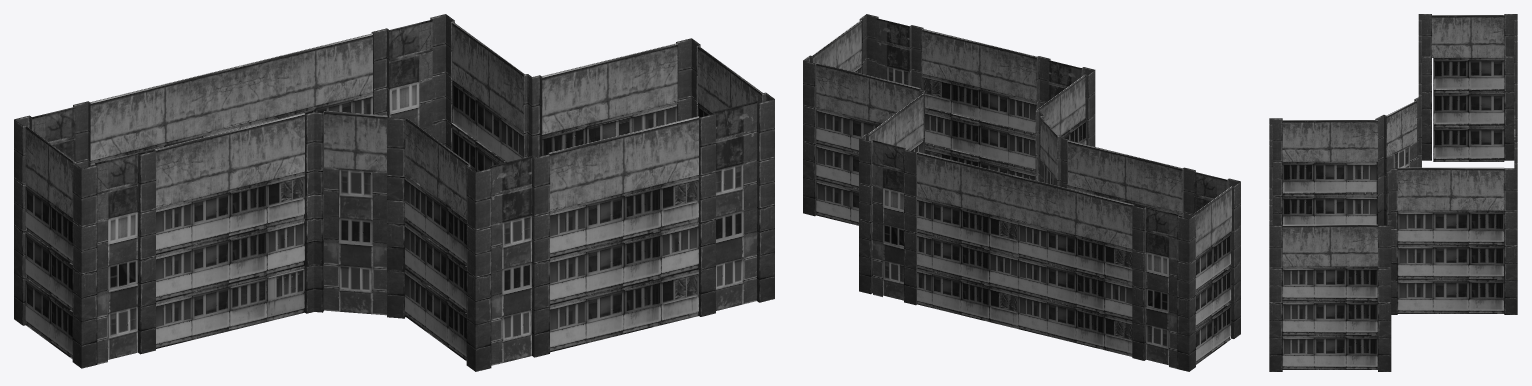
File: skidrow_building_11.fbx
3 renders of one model, left to right at view 1: azimuth 30°, elevation 25°; view 2: azimuth 150°, elevation 25°; view 3: azimuth 270°, elevation 25°, orthographic. The views are drawn at different scales.
Parts seen in each view (by area): view 1: skidrow_building_11; view 2: skidrow_building_11; view 3: skidrow_building_11.
Part boxes in pixels (box(x1,y1,x2,y2)): skidrow_building_11: box(14, 14, 774, 371); skidrow_building_11: box(803, 14, 1240, 371); skidrow_building_11: box(1269, 14, 1517, 371).
Bounding box in the file's own units: 3323 × 1086 × 1649.
